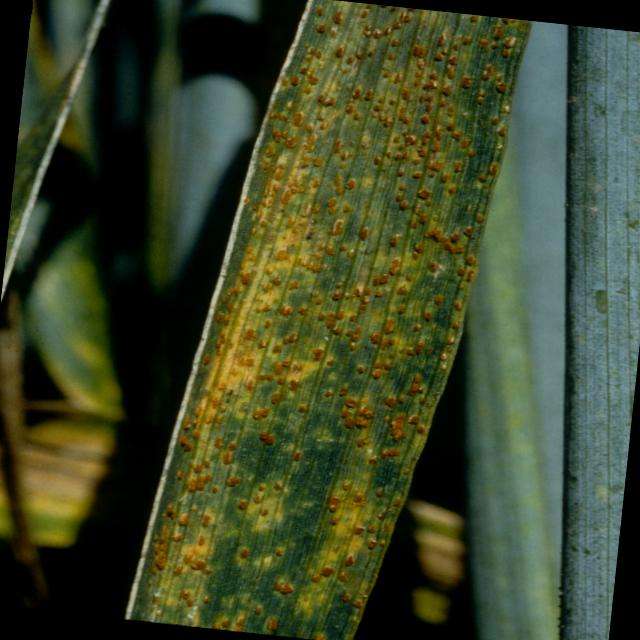leaf_rust: (130, 0, 530, 640)
